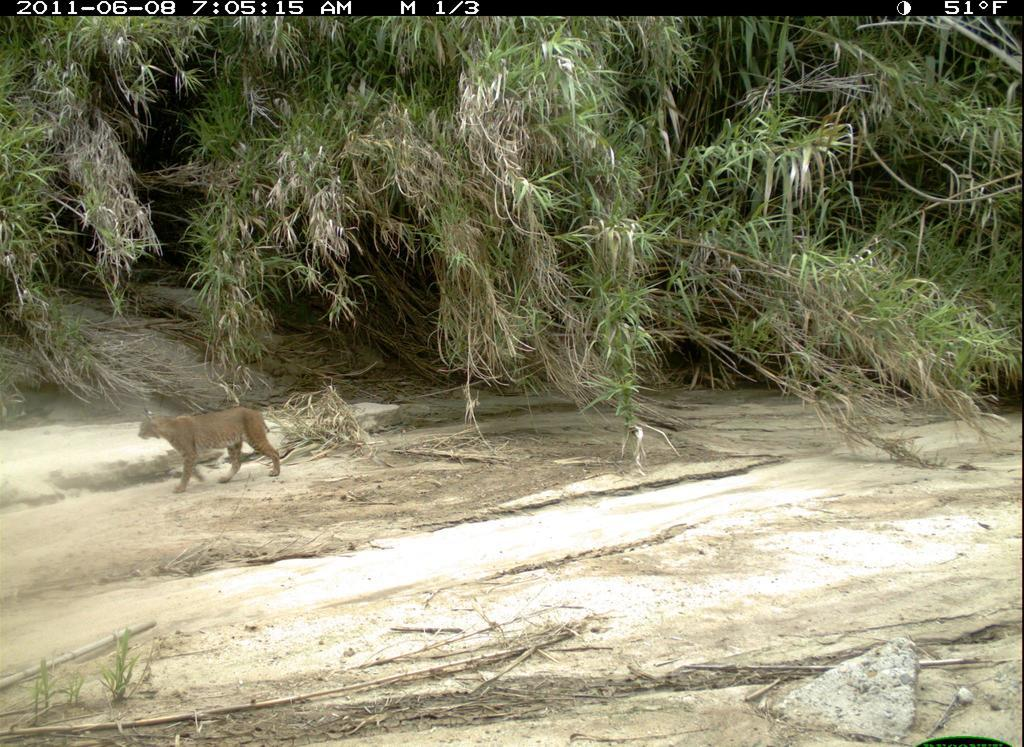bobcat: (123, 399, 315, 500)
